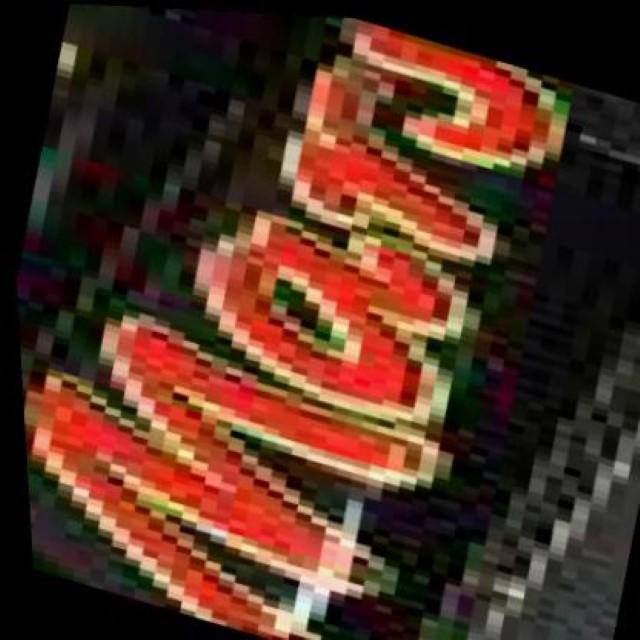mars_chocolate: (77, 38, 593, 625)
